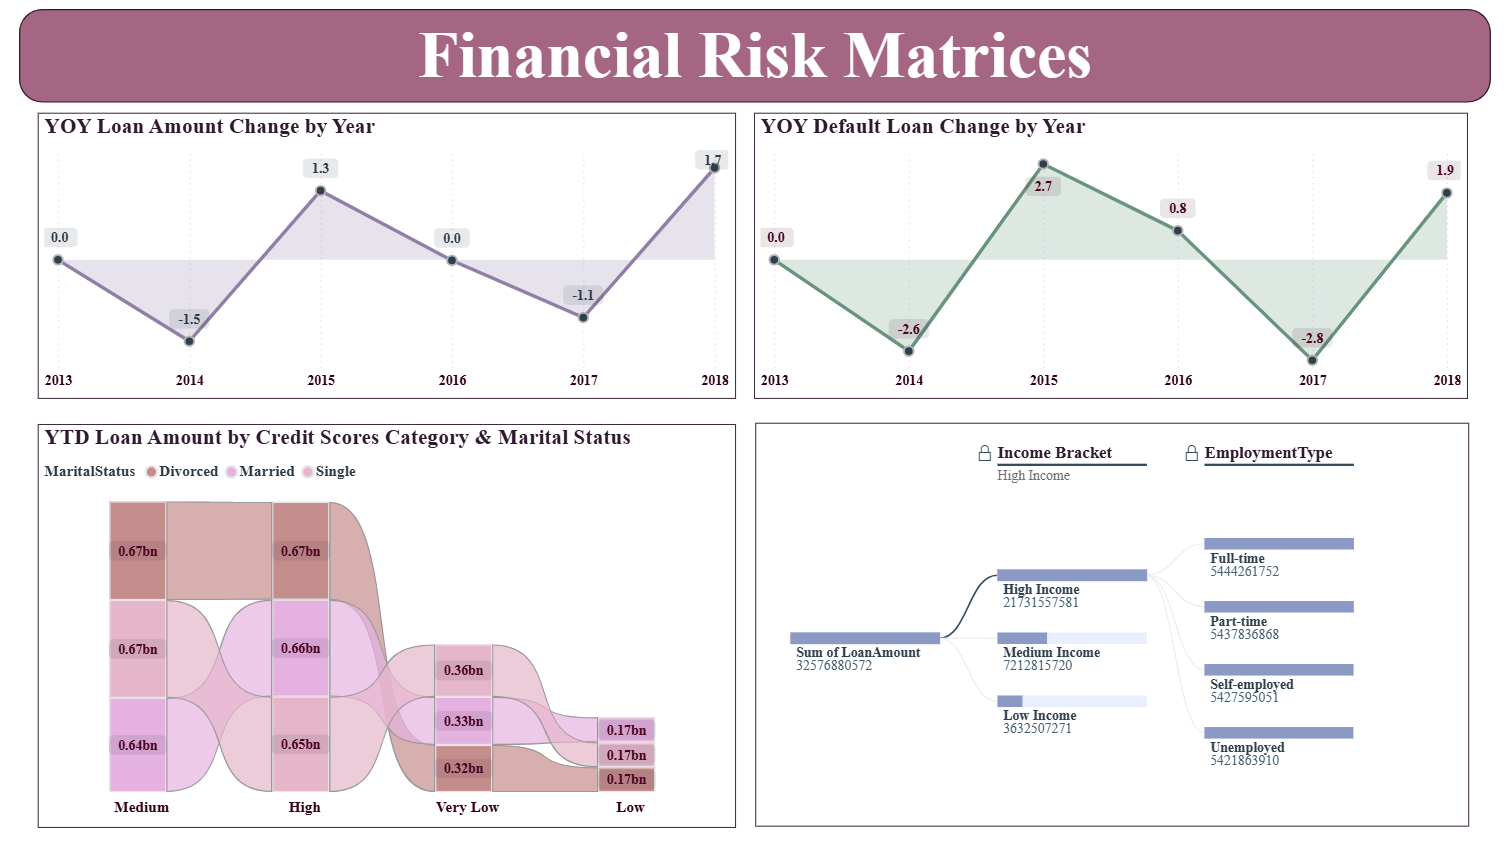

The dashboard page shown, as its layout file describes it:
{"tool":"powerbi","page":{"name":"Financial Risk Matrices ","canvas":[1280,720],"ordinal":2},"visuals":[{"type":"shape","box":[0,0,1279.9,81.4],"z":0},{"type":"lineChart","fields":{"Y":["Measures Table - 3.YOY Loan Amount Change"],"Category":["Loan_default.Year"]},"box":[16.3,90.7,607,248.8],"z":1000},{"type":"lineChart","fields":{"Category":["Loan_default.Year"],"Y":["Measures Table - 3.YOY Default Loan Change"]},"box":[639.5,90.7,620.9,248.8],"z":2000},{"type":"ribbonChart","title":"YTD Loan Amount by Credit Scores Category & Marital Status","fields":{"Y":["Measures Table - 3.YTD Loan Amount"],"Category":["Loan_default.Credit Scores Bins"],"Series":["Loan_default.MaritalStatus"]},"box":[16.3,360.5,607,351.2],"z":3000},{"type":"decompositionTreeVisual","fields":{"Analyze":["Sum(Loan_default.LoanAmount)"],"ExplainBy":["Loan_default.Income Bracket","Loan_default.EmploymentType"]},"box":[640,360,621,351],"z":3001}]}

Visuals, with their boxes in screenshot pixels (x1, y1, x2, y2), scaled from the page's 1280x720 canvas onto the 1510x854 screenshot:
shape: [0,0,1509,97]
lineChart - Measures Table - 3.YOY Loan Amount Change x Loan_default.Year: [19,108,735,403]
lineChart - Loan_default.Year x Measures Table - 3.YOY Default Loan Change: [754,108,1487,403]
"YTD Loan Amount by Credit Scores Category & Marital Status" ribbonChart: [19,428,735,844]
decompositionTreeVisual - Sum(Loan_default.LoanAmount) x Loan_default.Income Bracket: [755,427,1488,843]
